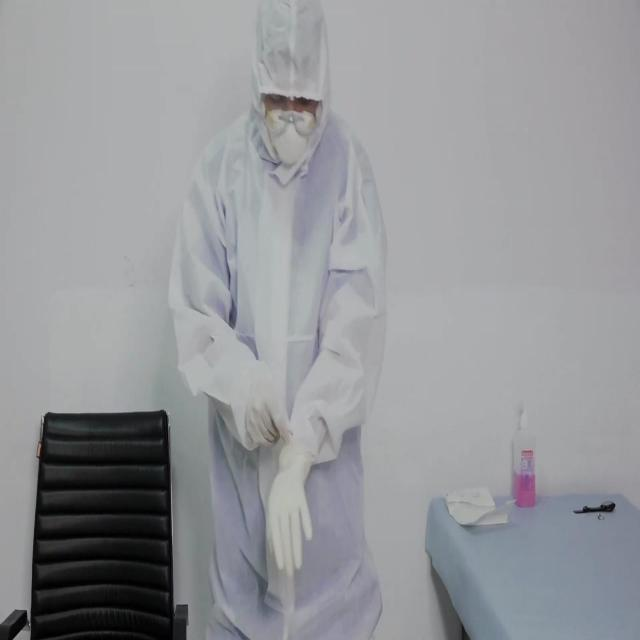Gloves: (266, 442, 313, 575), (245, 368, 294, 448)
Goggles: (260, 84, 324, 140)
